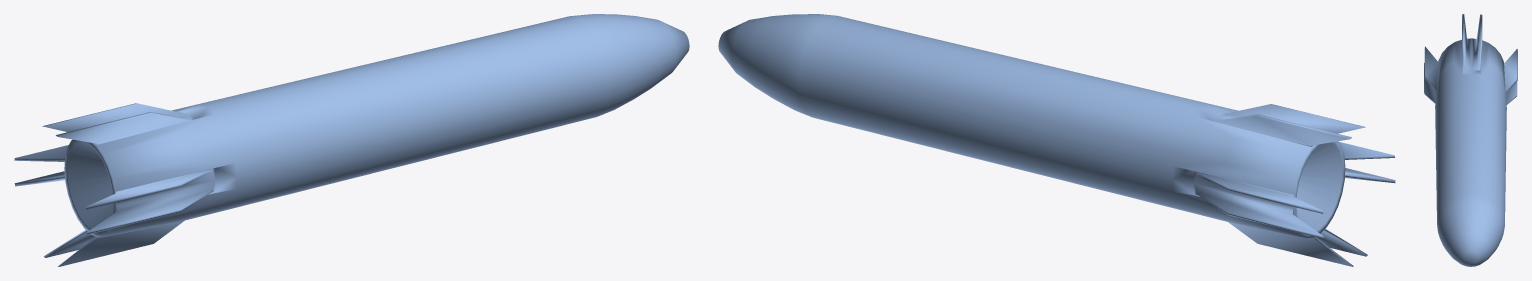
The model's file is Missle.obj.
The picture shows the model from 3 angles, left to right: view 1: azimuth 30°, elevation 25°; view 2: azimuth 150°, elevation 25°; view 3: azimuth 270°, elevation 25°; orthographic projection. The views are drawn at different scales.
Parts seen in each view (by area): view 1: Missle; view 2: Missle; view 3: Missle.
Boxes of the visible parts, bbox=[...] form: Missle: bbox=[14, 14, 689, 266]; Missle: bbox=[718, 14, 1395, 266]; Missle: bbox=[1424, 14, 1517, 266].
Bounding box in the file's own units: 32.12 × 6.33 × 6.33.
